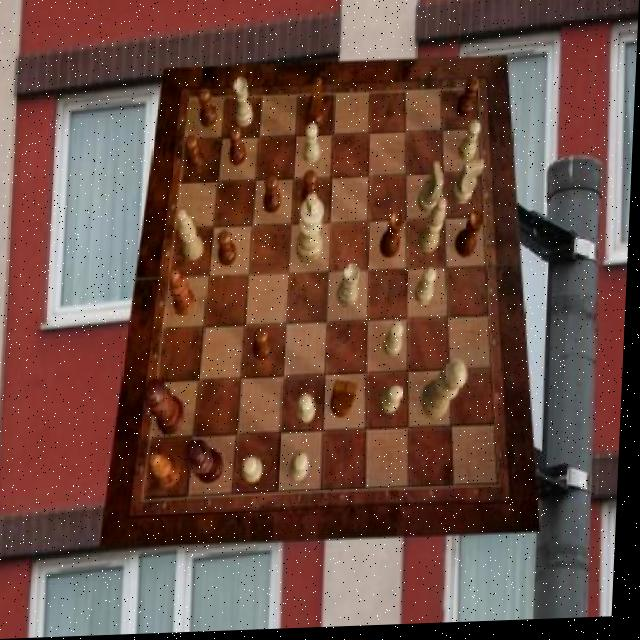bishop: (152, 451, 187, 490), (172, 271, 201, 318)
black-bishop: (187, 440, 229, 486)
black-king: (334, 381, 362, 421), (306, 80, 327, 133)
black-knight: (457, 81, 480, 122), (198, 91, 220, 131), (186, 137, 208, 176), (219, 231, 241, 268), (229, 126, 248, 168), (303, 174, 322, 213), (266, 176, 285, 214), (257, 329, 277, 363)
black-pawn: (146, 379, 190, 439)
black-queen: (458, 215, 487, 262), (381, 214, 406, 262)
black-rook: (178, 210, 208, 264), (421, 202, 450, 257)
white-bishop: (298, 195, 327, 267)
white-king: (454, 163, 488, 208), (421, 165, 448, 218)
white-knight: (460, 123, 482, 165), (418, 270, 440, 308), (304, 124, 323, 166), (387, 325, 408, 360), (383, 388, 407, 417), (294, 453, 315, 485), (300, 395, 320, 426), (246, 458, 268, 486)
white-pawn: (425, 363, 472, 424)
white-queen: (234, 78, 256, 130), (340, 266, 364, 311)
